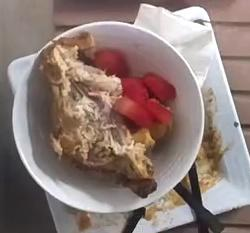chicken: (40, 32, 174, 180), (93, 49, 175, 140)
